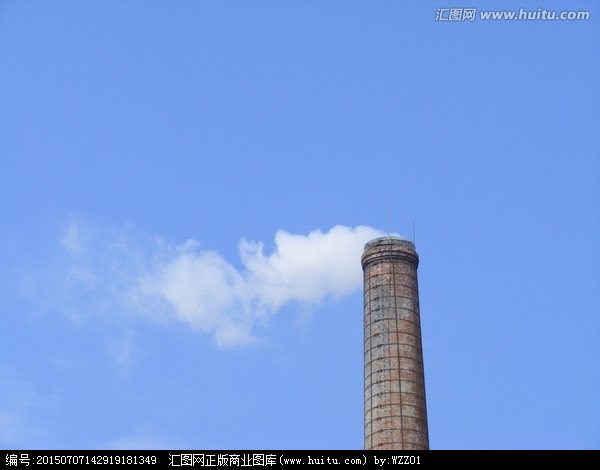dust: (192, 216, 420, 301)
